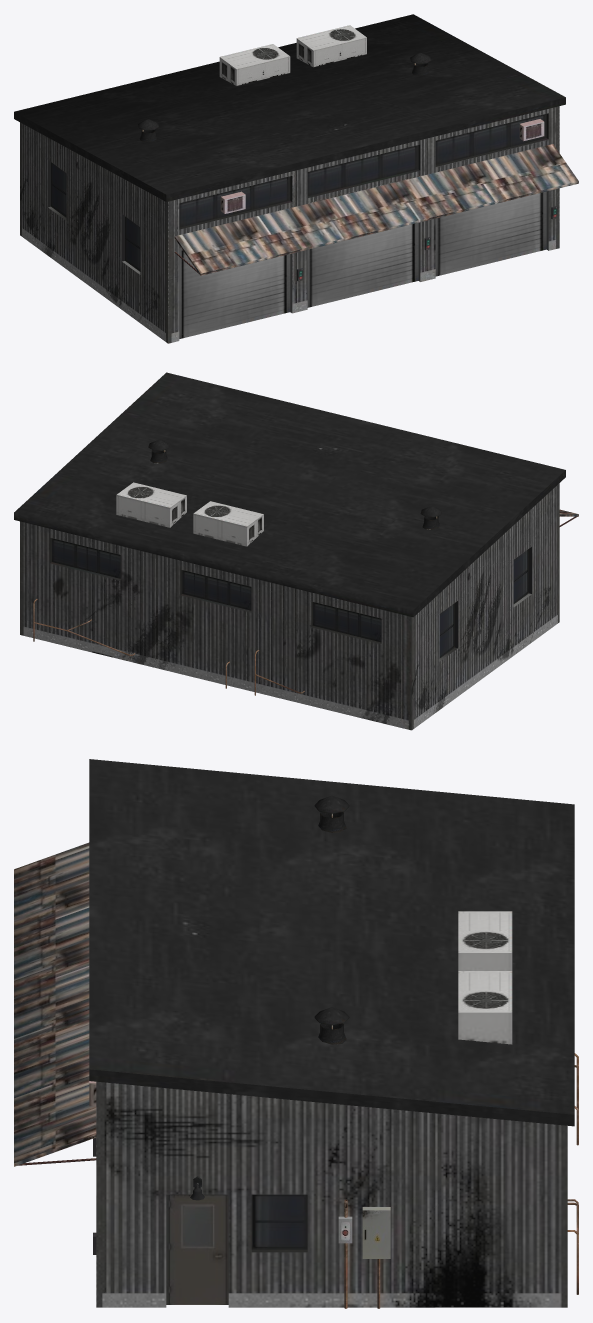
File: PSX Old Warehouse.fbx
3 views of the same model, one above another, from view 1: azimuth 30°, elevation 25°; view 2: azimuth 150°, elevation 25°; view 3: azimuth 270°, elevation 25° (orthographic). The views are drawn at different scales.
Visible parts, largest first — view 1: PSX Old Warehouse; view 2: PSX Old Warehouse; view 3: PSX Old Warehouse.
Boxes of the visible parts, box(x1,y1,x2,y2) form: PSX Old Warehouse: box(14, 14, 578, 343); PSX Old Warehouse: box(14, 372, 578, 730); PSX Old Warehouse: box(14, 759, 578, 1308).
Size of the model in its own units: 632 by 234 by 479.
